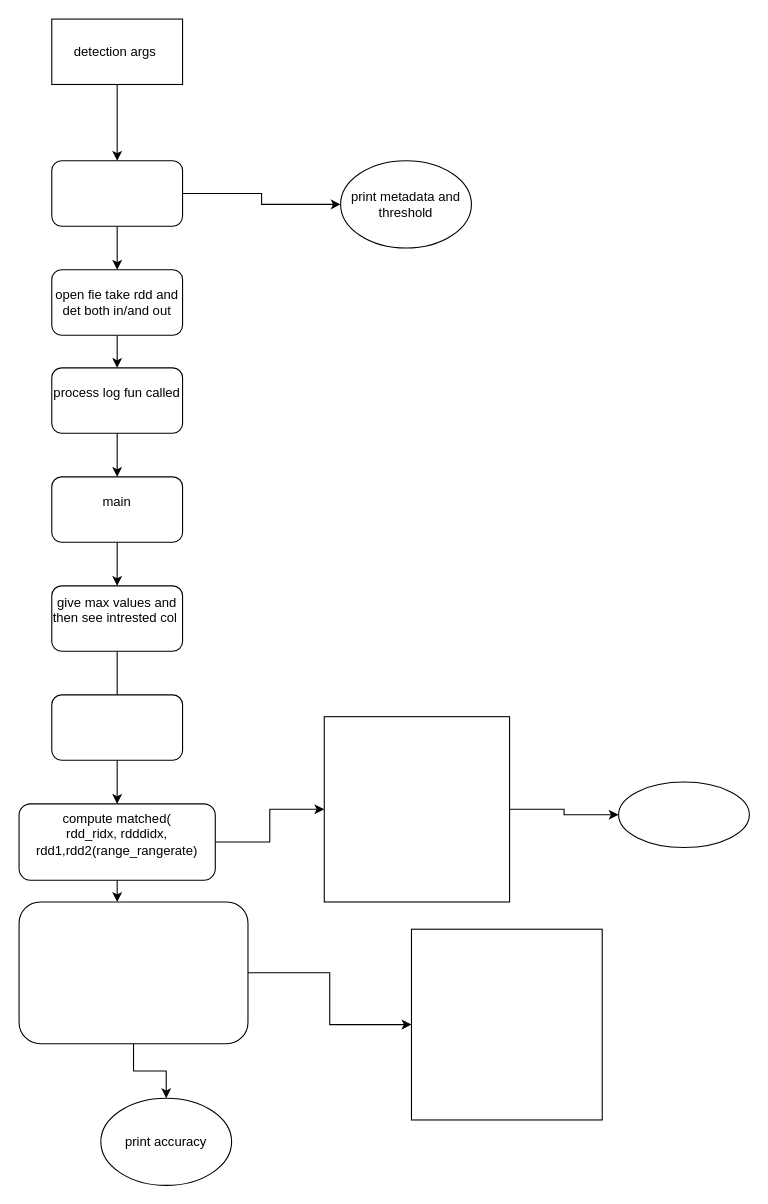
This 768x1204 diagram has some shape labels left out. The box of each missing label's shape, as (x1, y1, x2, y2) in pixels:
Compute matches within thresholds for rdd2_range and rdd2_range_rate: (18, 901, 248, 1044)
print the si percentage match: (617, 781, 749, 847)
then all the intrested col in csv both det,rdd and vsh and sim(r0): (51, 694, 183, 760)
threshold cheking: (51, 160, 183, 226)
